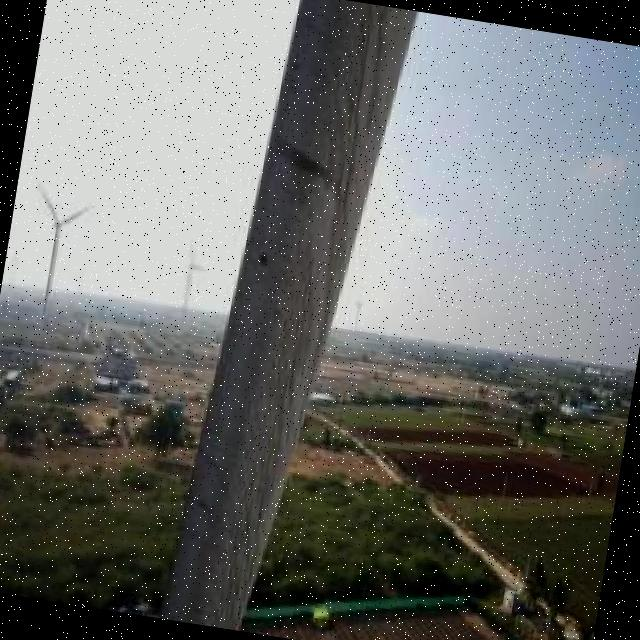Dirt: (174, 10, 422, 640)
Oil LEAKAGE: (270, 130, 335, 186)
Pin Hole: (254, 252, 270, 268)
